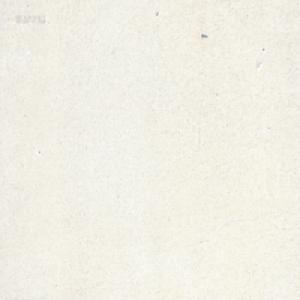Nail: (201, 32, 208, 37)
